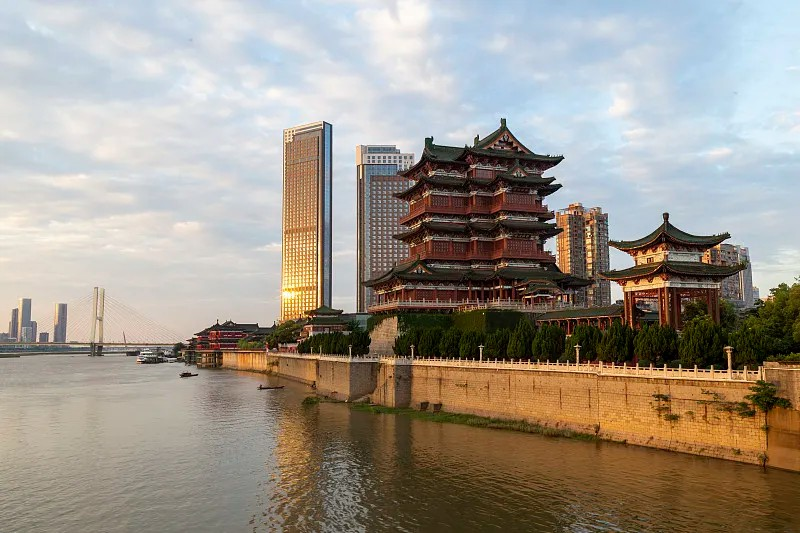Teng: (361, 119, 598, 308)
